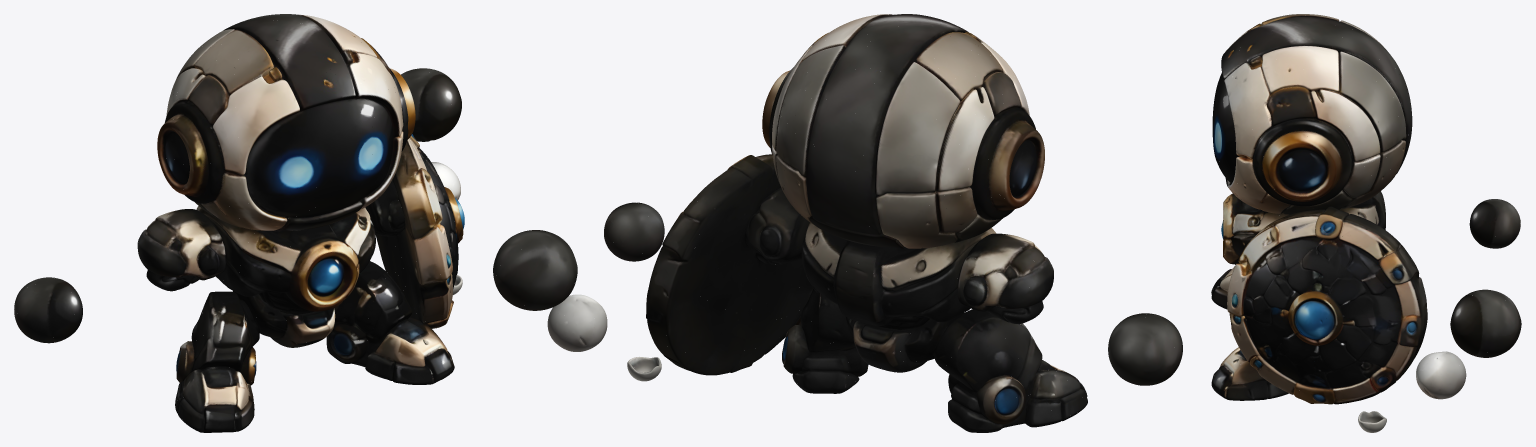
File: stage_i.glb
3 views of the same model, side by side, from view 1: azimuth 30°, elevation 25°; view 2: azimuth 150°, elevation 25°; view 3: azimuth 270°, elevation 25° (orthographic). The views are drawn at different scales.
Parts seen in each view (by area): view 1: tripo_node_3e8579af-4e96-47de-b6e6-9d1137eac711; view 2: tripo_node_3e8579af-4e96-47de-b6e6-9d1137eac711; view 3: tripo_node_3e8579af-4e96-47de-b6e6-9d1137eac711.
Part boxes in pixels (<box>): tripo_node_3e8579af-4e96-47de-b6e6-9d1137eac711: <box>14,14,464,432</box>; tripo_node_3e8579af-4e96-47de-b6e6-9d1137eac711: <box>493,14,1182,432</box>; tripo_node_3e8579af-4e96-47de-b6e6-9d1137eac711: <box>1211,14,1521,432</box>.
Bounding box in the file's own units: 1 × 0.6229 × 0.5507.
1 material, 1 textured.
